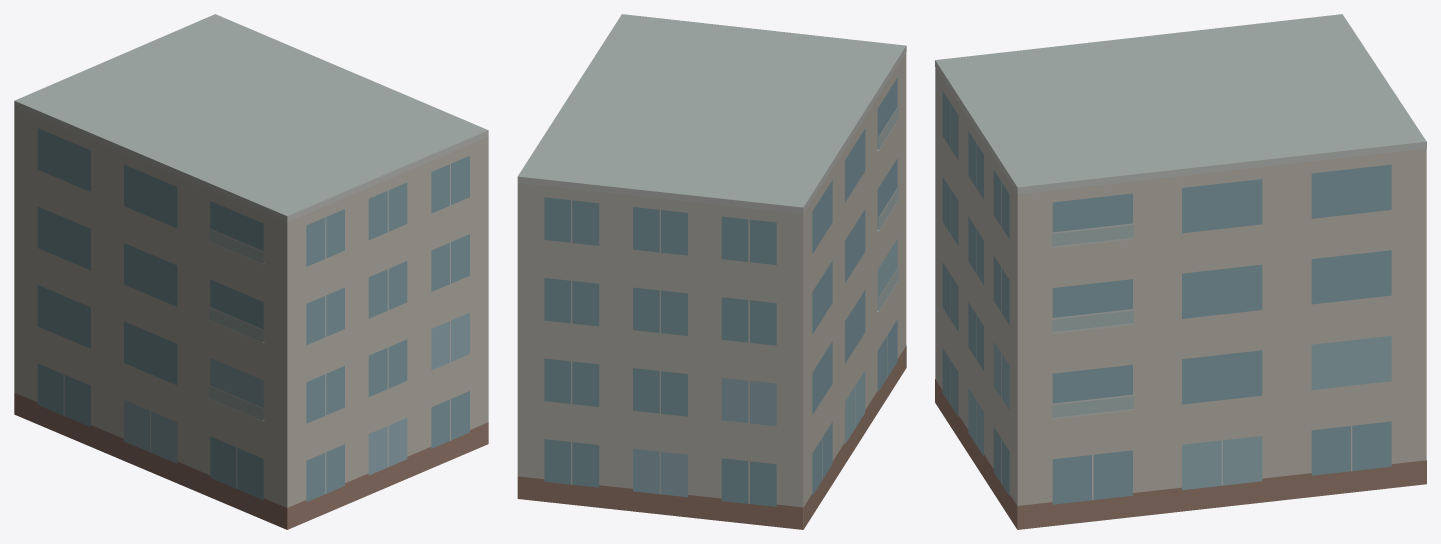
Rendered from survey-upis-32650917.glb.
3 renders of one model, left to right at view 1: azimuth 30°, elevation 25°; view 2: azimuth 150°, elevation 25°; view 3: azimuth 270°, elevation 25°, orthographic. The views are drawn at different scales.
Parts seen in each view (by area): view 1: survey-upis-32650917.tmp; view 2: survey-upis-32650917.tmp; view 3: survey-upis-32650917.tmp.
Boxes of the visible parts, x1=… form: survey-upis-32650917.tmp: x1=14, y1=14, x2=488, y2=529; survey-upis-32650917.tmp: x1=517, y1=14, x2=906, y2=529; survey-upis-32650917.tmp: x1=935, y1=14, x2=1426, y2=529.
Size of the model in its own units: 13.26 by 12.2 by 15.88.
